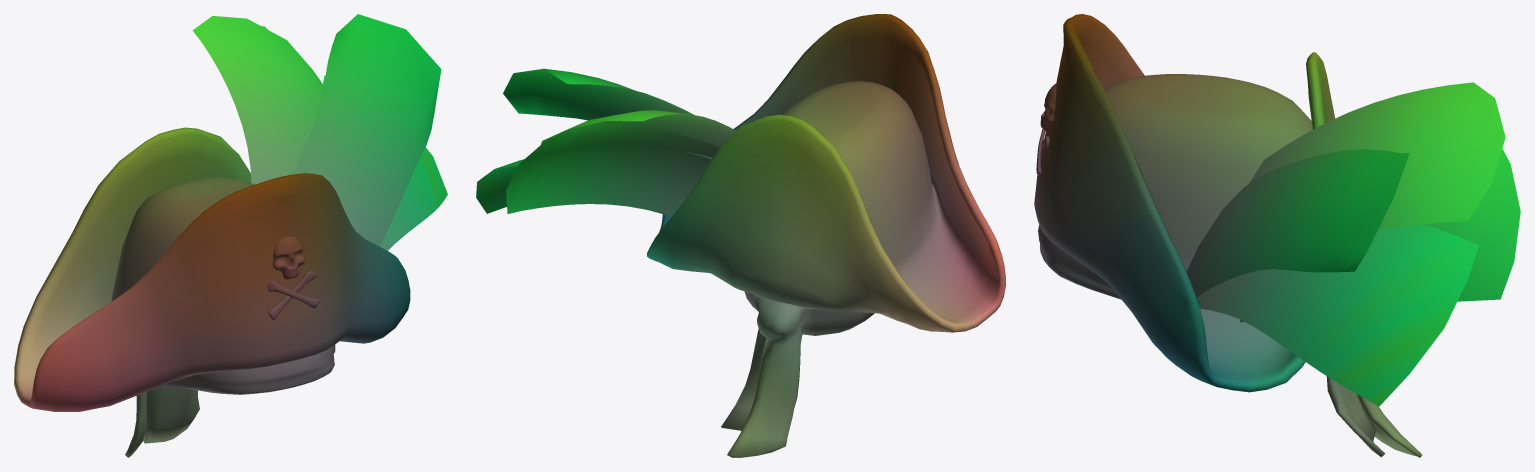
File: SM_HM_Medium_Pirate_Hat.fbx
The picture shows the model from 3 angles, left to right: view 1: azimuth 30°, elevation 25°; view 2: azimuth 150°, elevation 25°; view 3: azimuth 270°, elevation 25°; orthographic projection. The views are drawn at different scales.
Visible parts, largest first — view 1: SM_HM_Medium_Pirate_Hat; view 2: SM_HM_Medium_Pirate_Hat; view 3: SM_HM_Medium_Pirate_Hat.
Part boxes in pixels (left/top/right/bottom): SM_HM_Medium_Pirate_Hat: left=14, top=14, right=447, bottom=457; SM_HM_Medium_Pirate_Hat: left=476, top=14, right=1005, bottom=457; SM_HM_Medium_Pirate_Hat: left=1034, top=14, right=1520, bottom=457.
Bounding box in the file's own units: 50.78 × 37.35 × 38.64.
